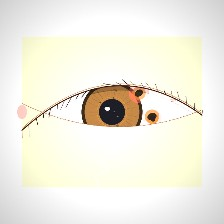foreign_body_visible: (128, 98, 175, 135)
